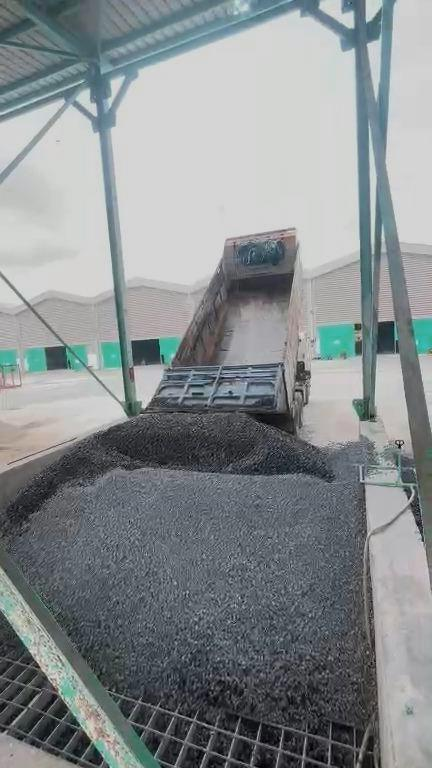gravel: (3, 434, 379, 725), (7, 413, 334, 531), (1, 612, 21, 655)
sand: (1, 420, 50, 463)
